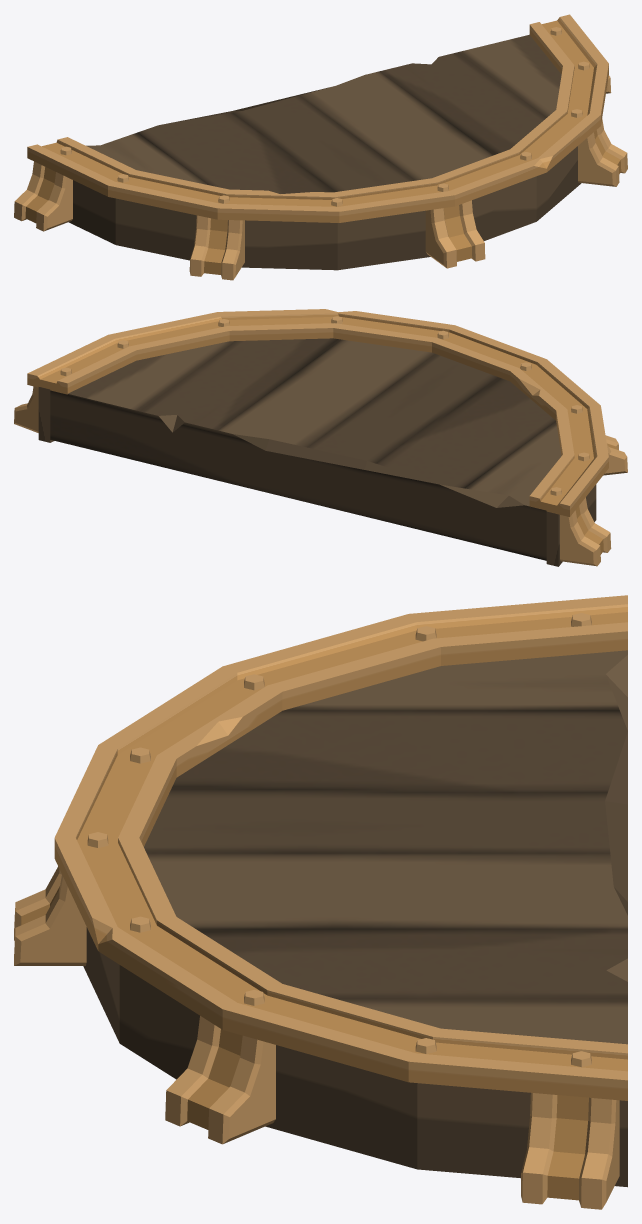
Rendered from SM_Prop_Cannon_Base_03.fbx.
3 views of the same model, one above another, from view 1: azimuth 30°, elevation 25°; view 2: azimuth 150°, elevation 25°; view 3: azimuth 270°, elevation 25° (orthographic). The views are drawn at different scales.
Visible parts, largest first — view 1: SM_Prop_Cannon_Base_03; view 2: SM_Prop_Cannon_Base_03; view 3: SM_Prop_Cannon_Base_03.
Boxes of the visible parts, <box> form: SM_Prop_Cannon_Base_03: <box>14,14,627,280</box>; SM_Prop_Cannon_Base_03: <box>14,309,627,566</box>; SM_Prop_Cannon_Base_03: <box>14,595,627,1209</box>.
Bounding box in the file's own units: 386 × 40.8 × 192.
